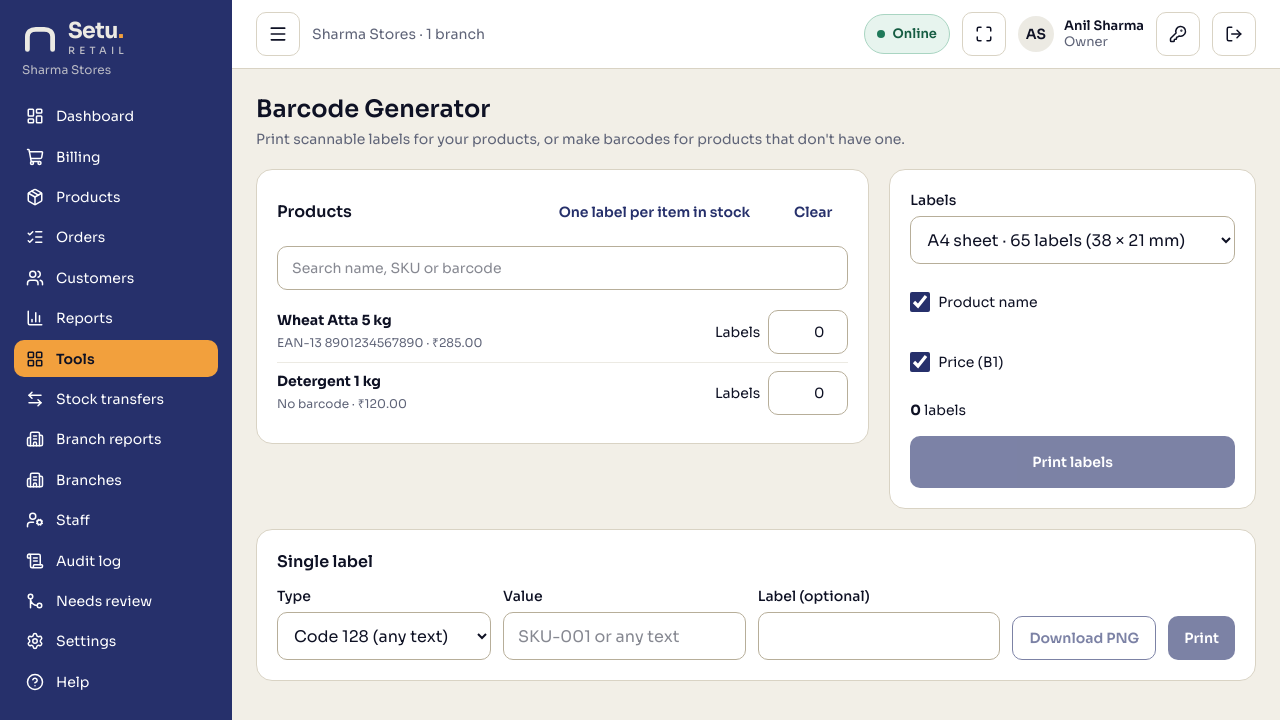
Test: report tools › the barcode page makes barcodes for chosen products without one
Replace the text in the number field named "Labels for Detergent 1 kg" with "3" at coordinates (808, 393), box [768,371,848,415]
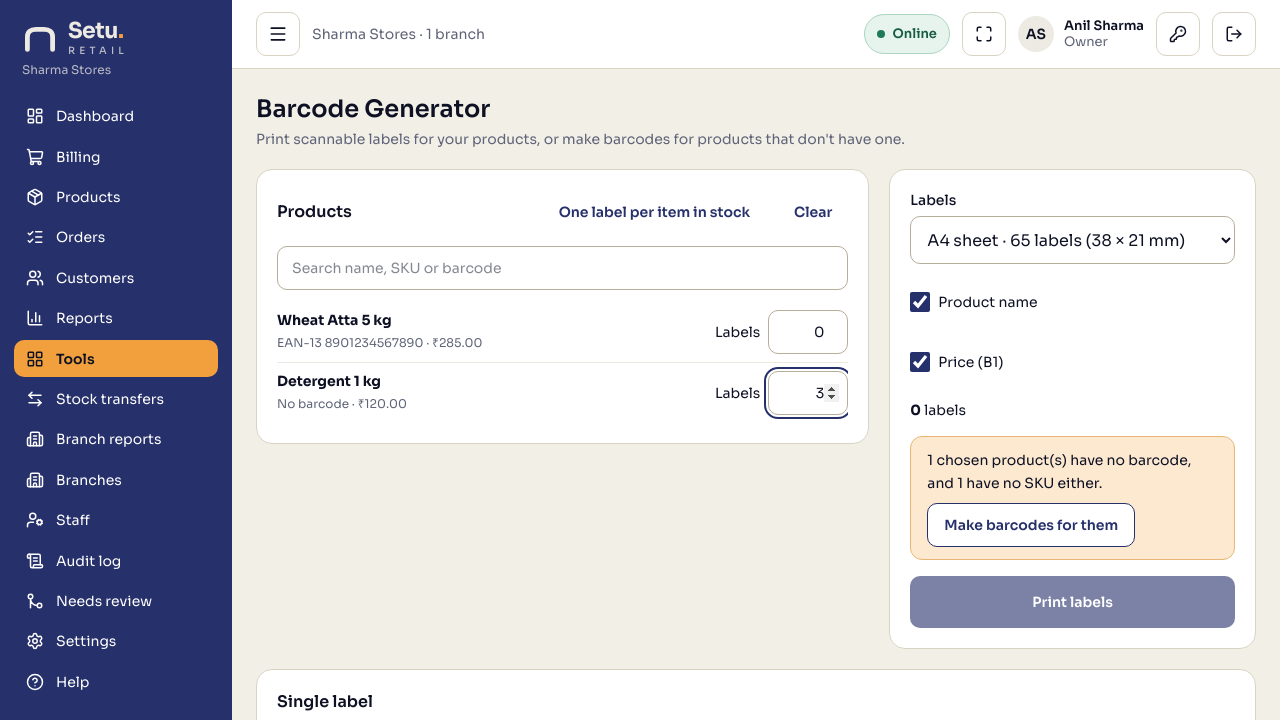
Check: the text "1 chosen product(s) have no barcode" is shown, box [910,436,1235,560]
Click the button "Make barcodes for them".
click(1031, 524)  # box [927,502,1135,546]
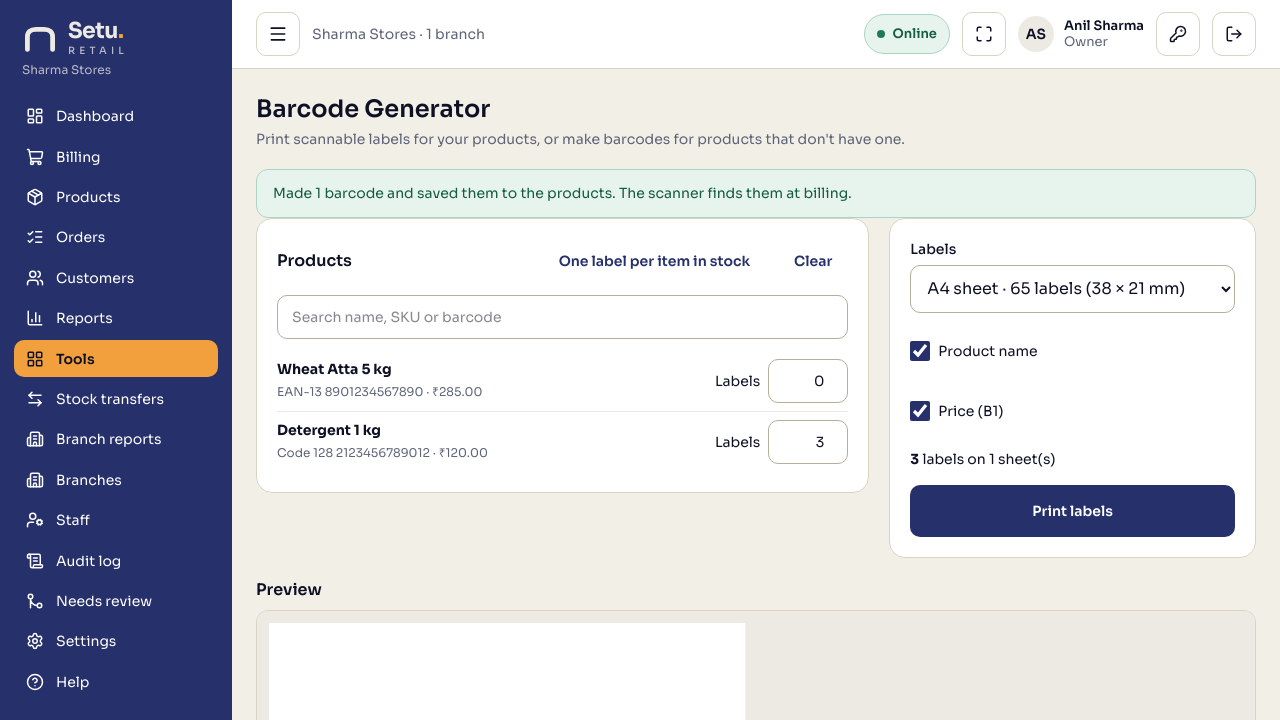
Check: the text "Made 1 barcode" is shown, box [273,184,852,202]
Check: the text "Code 128 2123456789012 · ₹120.00" is shown, box [277,445,488,460]
